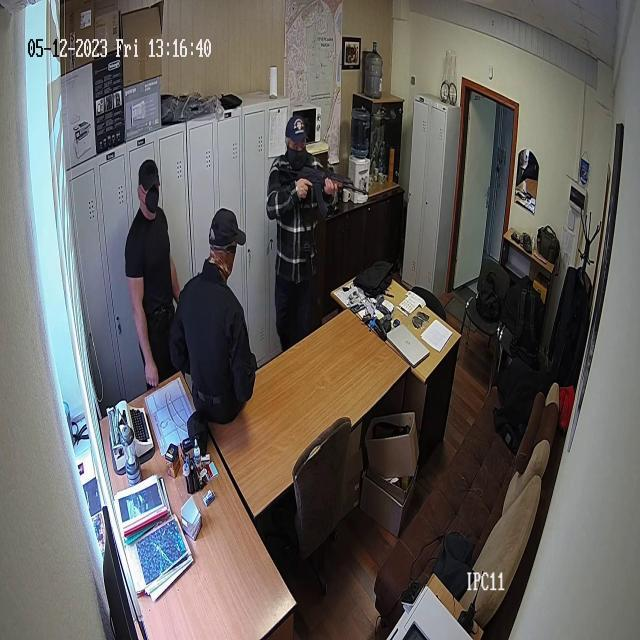pistol: (280, 156, 370, 216), (510, 228, 522, 248)
